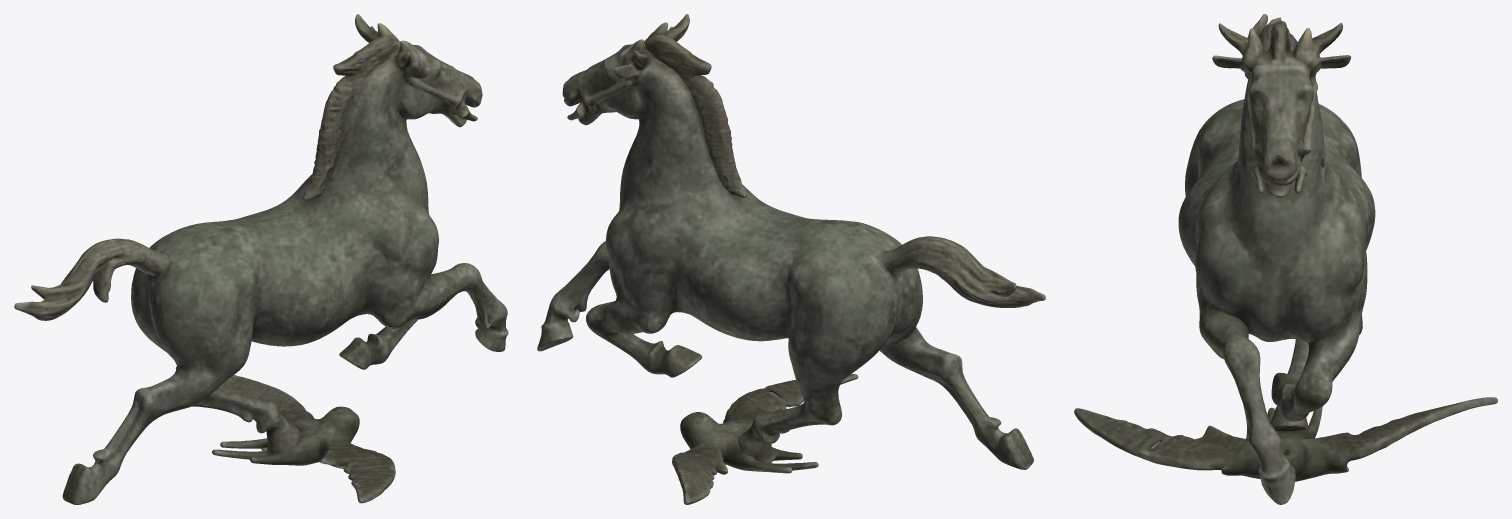
Rendered from horse.glb.
The picture shows the model from 3 angles, left to right: view 1: azimuth 30°, elevation 25°; view 2: azimuth 150°, elevation 25°; view 3: azimuth 270°, elevation 25°; orthographic projection. The views are drawn at different scales.
Parts seen in each view (by area): view 1: geometry_0; view 2: geometry_0; view 3: geometry_0.
Part boxes in pixels (x1,y1,x2,y2): geometry_0: (14,14,508,504); geometry_0: (537,14,1045,504); geometry_0: (1074,14,1497,504).
Size of the model in its own units: 0.45 by 0.3553 by 0.2794.
Materials: 1 (1 with a texture image).
